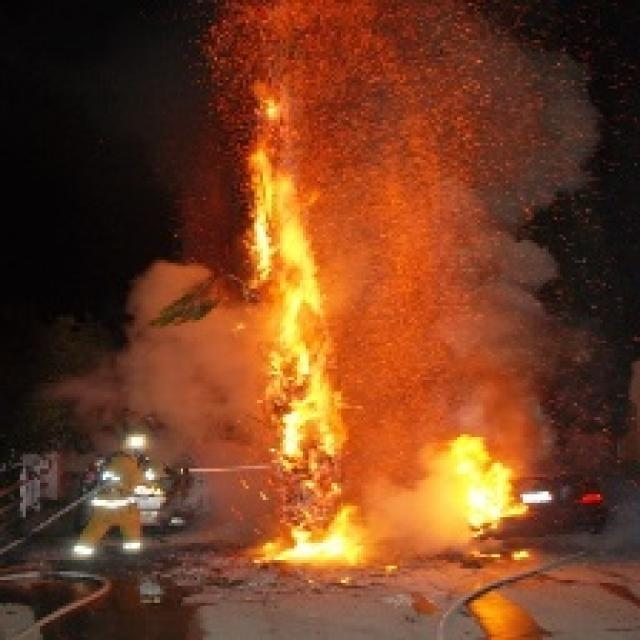Fire: (250, 159, 326, 361), (447, 432, 525, 528), (274, 364, 342, 462), (272, 503, 364, 566)
Smoke: (40, 264, 246, 424), (366, 452, 446, 558)
